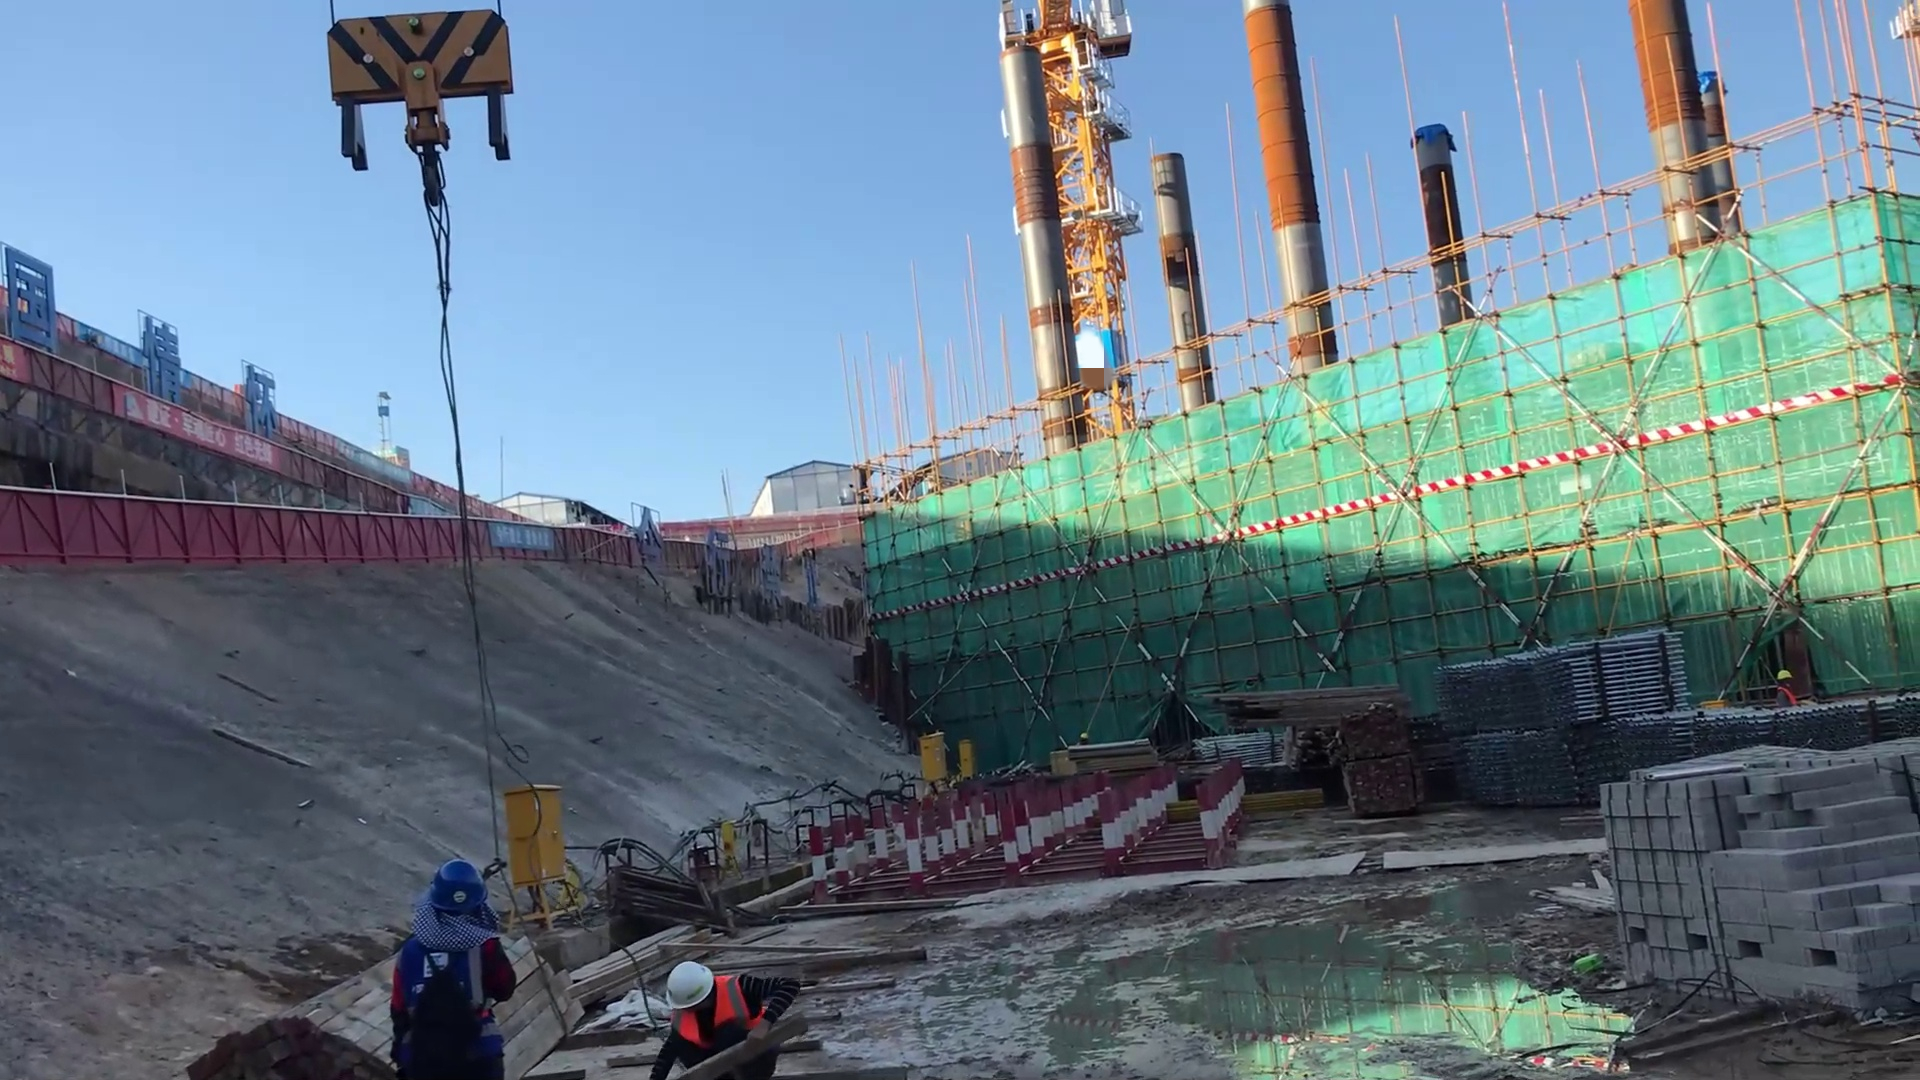brick: (1580, 765, 1908, 1023)
ebox: (491, 768, 611, 889), (915, 729, 948, 786), (956, 739, 978, 780)
fence: (4, 486, 369, 571), (367, 507, 611, 567)
helmet: (423, 853, 491, 937), (648, 956, 736, 1012), (1075, 730, 1090, 742)
hook: (337, 7, 514, 183)
person: (385, 851, 513, 1080), (641, 947, 799, 1080), (1769, 668, 1808, 712)
scaffold: (1433, 631, 1711, 719), (1461, 721, 1597, 807)
vest: (661, 988, 763, 1044)
wood: (1203, 686, 1421, 729)
